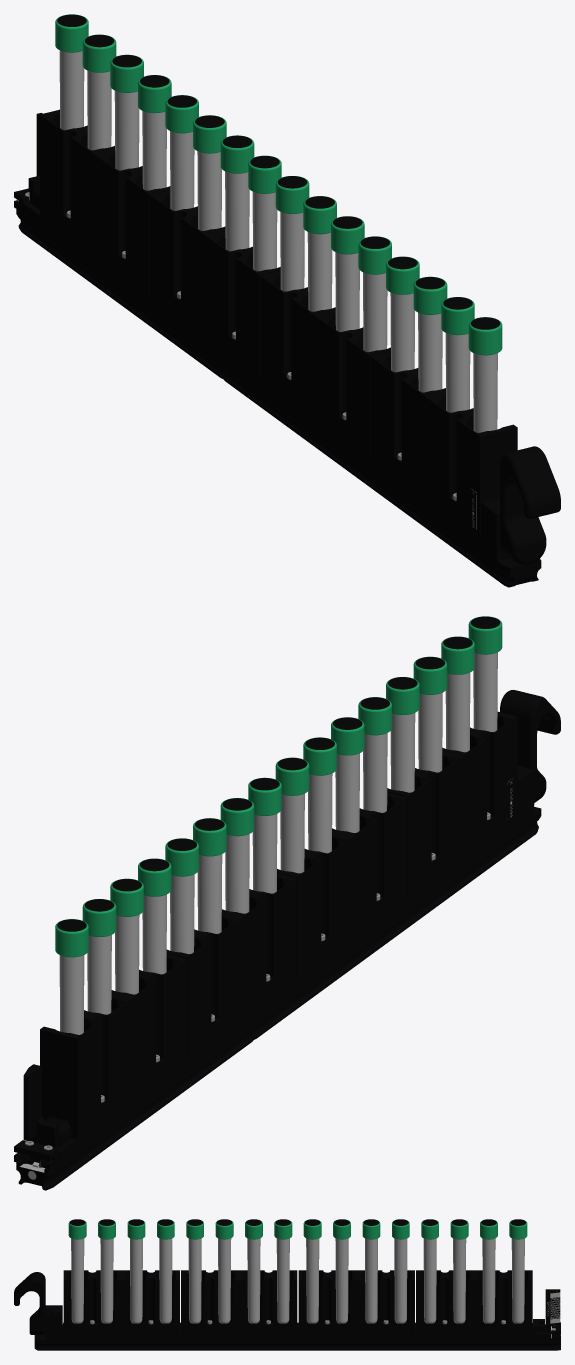
File: 16x_Grnr6ml.gltf
The picture shows the model from 3 angles, top to bottom: view 1: azimuth 30°, elevation 25°; view 2: azimuth 150°, elevation 25°; view 3: azimuth 270°, elevation 25°; orthographic projection. The views are drawn at different scales.
Parts seen in each view (by area): view 1: Frame_body__34_0_node, Frame_body__34_0, Frame_body__32_0; view 2: Frame_body__34_0_node, Frame_body__34_0, Frame_body__32_0; view 3: Frame_body__34_0_node, Frame_body__34_0, Frame_body__32_0, Frame_body__34_0_node_0.
Part boxes in pixels (<box>): Frame_body__34_0_node: <box>14,14,560,587</box>; Frame_body__34_0: <box>59,50,497,529</box>; Frame_body__32_0: <box>55,14,502,355</box>; Frame_body__34_0_node: <box>14,616,560,1190</box>; Frame_body__34_0: <box>20,652,512,1179</box>; Frame_body__32_0: <box>55,616,502,957</box>; Frame_body__34_0_node: <box>14,1219,560,1350</box>; Frame_body__34_0: <box>71,1238,560,1338</box>; Frame_body__32_0: <box>68,1219,527,1239</box>; Frame_body__34_0_node_0: <box>90,1320,555,1331</box>.
Size of the model in its own units: 22.1 by 130 by 519.
